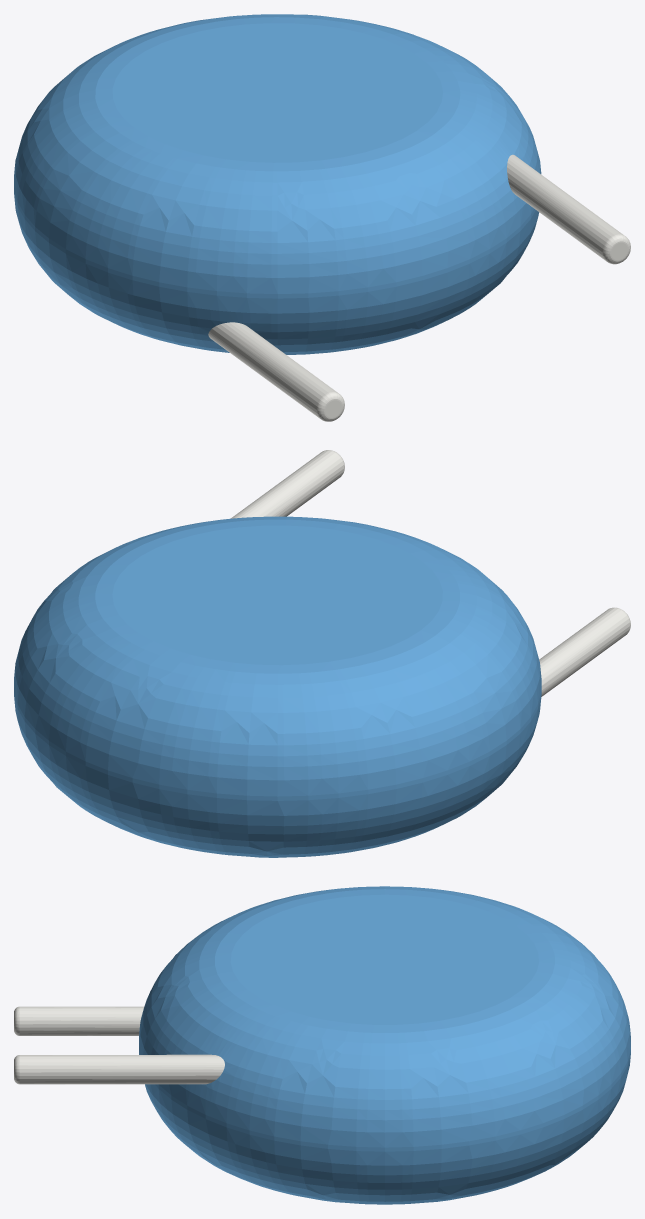
Rendered from RV_Disc_D12mm_W4.6mm_P7.5mm.glb.
The picture shows the model from 3 angles, top to bottom: view 1: azimuth 30°, elevation 25°; view 2: azimuth 150°, elevation 25°; view 3: azimuth 270°, elevation 25°; orthographic projection. The views are drawn at different scales.
Visible parts, largest first — view 1: Shape_IndexedFaceSet.001, Shape_IndexedFaceSet.003, Shape_IndexedFaceSet.002, Shape_IndexedFaceSet.006, Shape_IndexedFaceSet.004, Shape_IndexedFaceSet; view 2: Shape_IndexedFaceSet.001, Shape_IndexedFaceSet.003, Shape_IndexedFaceSet.002, Shape_IndexedFaceSet.006, Shape_IndexedFaceSet.004, Shape_IndexedFaceSet; view 3: Shape_IndexedFaceSet.001, Shape_IndexedFaceSet.003, Shape_IndexedFaceSet.002, Shape_IndexedFaceSet.004, Shape_IndexedFaceSet.006, Shape_IndexedFaceSet.
Part boxes in pixels (x1,y1,x2,y2): Shape_IndexedFaceSet.001: (14, 14, 541, 293); Shape_IndexedFaceSet.003: (112, 23, 442, 162); Shape_IndexedFaceSet.002: (14, 194, 539, 354); Shape_IndexedFaceSet.006: (208, 322, 337, 418); Shape_IndexedFaceSet.004: (507, 154, 623, 260); Shape_IndexedFaceSet: (14, 189, 535, 298); Shape_IndexedFaceSet.001: (14, 516, 541, 796); Shape_IndexedFaceSet.003: (112, 525, 442, 665); Shape_IndexedFaceSet.002: (14, 696, 541, 857); Shape_IndexedFaceSet.006: (539, 608, 629, 696); Shape_IndexedFaceSet.004: (231, 450, 343, 518); Shape_IndexedFaceSet: (14, 691, 541, 800); Shape_IndexedFaceSet.001: (139, 886, 630, 1147); Shape_IndexedFaceSet.003: (230, 894, 538, 1024); Shape_IndexedFaceSet.002: (145, 1054, 630, 1204); Shape_IndexedFaceSet.004: (20, 1054, 224, 1084); Shape_IndexedFaceSet.006: (20, 1006, 143, 1035); Shape_IndexedFaceSet: (139, 1050, 630, 1151).
Size of the model in its own units: 4.72 by 1.81 by 5.91.
